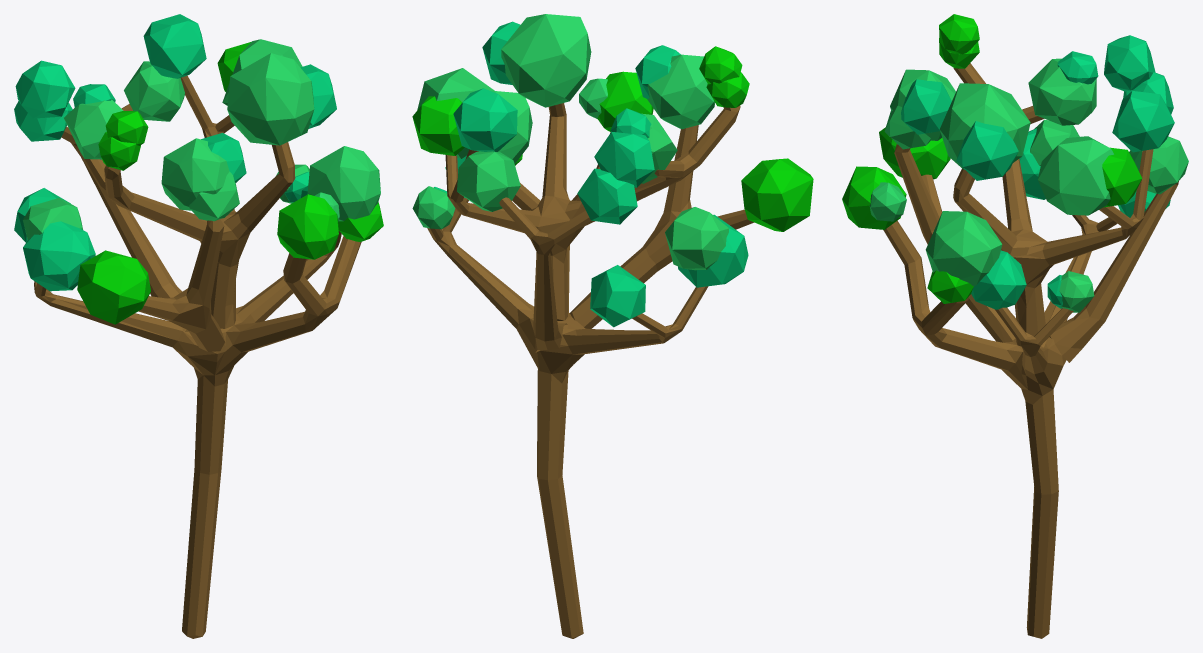
The model's file is Tree_2.fbx.
3 renders of one model, left to right at view 1: azimuth 30°, elevation 25°; view 2: azimuth 150°, elevation 25°; view 3: azimuth 270°, elevation 25°, orthographic. The views are drawn at different scales.
Parts seen in each view (by area): view 1: Branch, Leaf.002, Leaf.010, Leaf.006, Leaf.012, Leaf.008, Leaf.004, Leaf.011, Leaf.020, Leaf.015, Leaf.023, Leaf.013 (+11 smaller); view 2: Branch, Leaf.002, Leaf.010, Leaf.008, Leaf.011, Leaf.013, Leaf.015, Leaf.014, Leaf.020, Leaf.025, Leaf.001, Leaf.012 (+11 smaller); view 3: Branch, Leaf, Leaf.006, Leaf.002, Leaf.023, Leaf.011, Leaf.003, Leaf.020, Leaf.009, Leaf.004, Leaf.016, Leaf.015 (+13 smaller).
Boxes of the visible parts, bbox=[...] form: Branch: bbox=[34, 75, 361, 638]; Leaf.002: bbox=[227, 53, 314, 145]; Leaf.010: bbox=[77, 250, 150, 324]; Leaf.006: bbox=[307, 146, 380, 221]; Leaf.012: bbox=[23, 221, 95, 291]; Leaf.008: bbox=[161, 138, 229, 210]; Leaf.004: bbox=[277, 194, 338, 259]; Leaf.011: bbox=[143, 14, 206, 78]; Leaf.020: bbox=[15, 60, 75, 118]; Leaf.015: bbox=[124, 61, 184, 121]; Leaf.023: bbox=[64, 99, 123, 159]; Leaf.013: bbox=[23, 198, 82, 239]; Branch: bbox=[427, 103, 754, 638]; Leaf.002: bbox=[501, 14, 591, 107]; Leaf.010: bbox=[741, 158, 813, 231]; Leaf.008: bbox=[647, 54, 714, 129]; Leaf.011: bbox=[453, 88, 517, 151]; Leaf.013: bbox=[665, 207, 729, 270]; Leaf.015: bbox=[457, 151, 520, 211]; Leaf.014: bbox=[590, 265, 645, 327]; Leaf.020: bbox=[594, 131, 654, 187]; Leaf.025: bbox=[577, 168, 637, 224]; Leaf.001: bbox=[412, 96, 464, 155]; Leaf.012: bbox=[678, 214, 748, 287]; Branch: bbox=[883, 63, 1178, 638]; Leaf: bbox=[1037, 136, 1113, 215]; Leaf.006: bbox=[925, 211, 1002, 286]; Leaf.002: bbox=[939, 83, 1030, 169]; Leaf.023: bbox=[1028, 58, 1096, 125]; Leaf.011: bbox=[1112, 91, 1174, 152]; Leaf.003: bbox=[956, 121, 1018, 180]; Leaf.020: bbox=[1104, 35, 1155, 91]; Leaf.009: bbox=[901, 79, 951, 134]; Leaf.004: bbox=[842, 166, 906, 229]; Leaf.016: bbox=[971, 250, 1026, 309]; Leaf.015: bbox=[1129, 136, 1188, 194].
Size of the model in its own units: 288 by 512 by 278.
